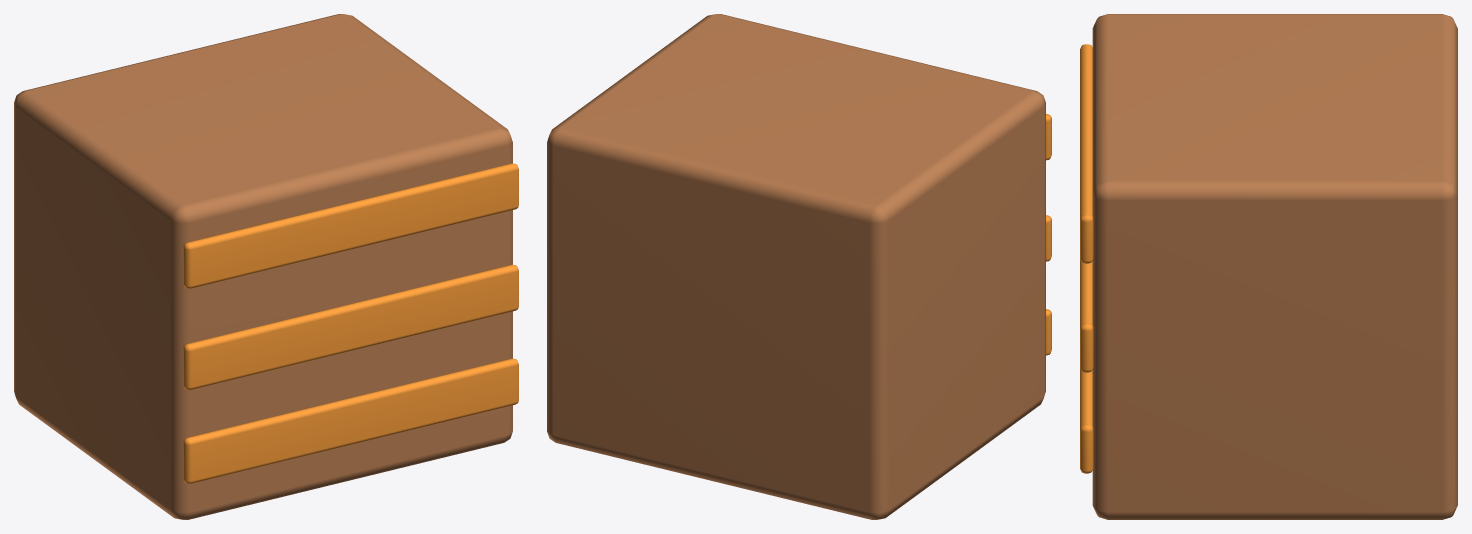
The model's file is Crate.fbx.
3 renders of one model, left to right at view 1: azimuth 30°, elevation 25°; view 2: azimuth 150°, elevation 25°; view 3: azimuth 270°, elevation 25°, orthographic. The views are drawn at different scales.
Parts seen in each view (by area): view 1: GEO-Body; view 2: GEO-Body; view 3: GEO-Body.
Boxes of the visible parts, left/top/right/bottom form: GEO-Body: left=14, top=14, right=518, bottom=519; GEO-Body: left=547, top=14, right=1051, bottom=519; GEO-Body: left=1080, top=14, right=1457, bottom=519.
Bounding box in the file's own units: 0.95 × 0.84 × 0.848.
